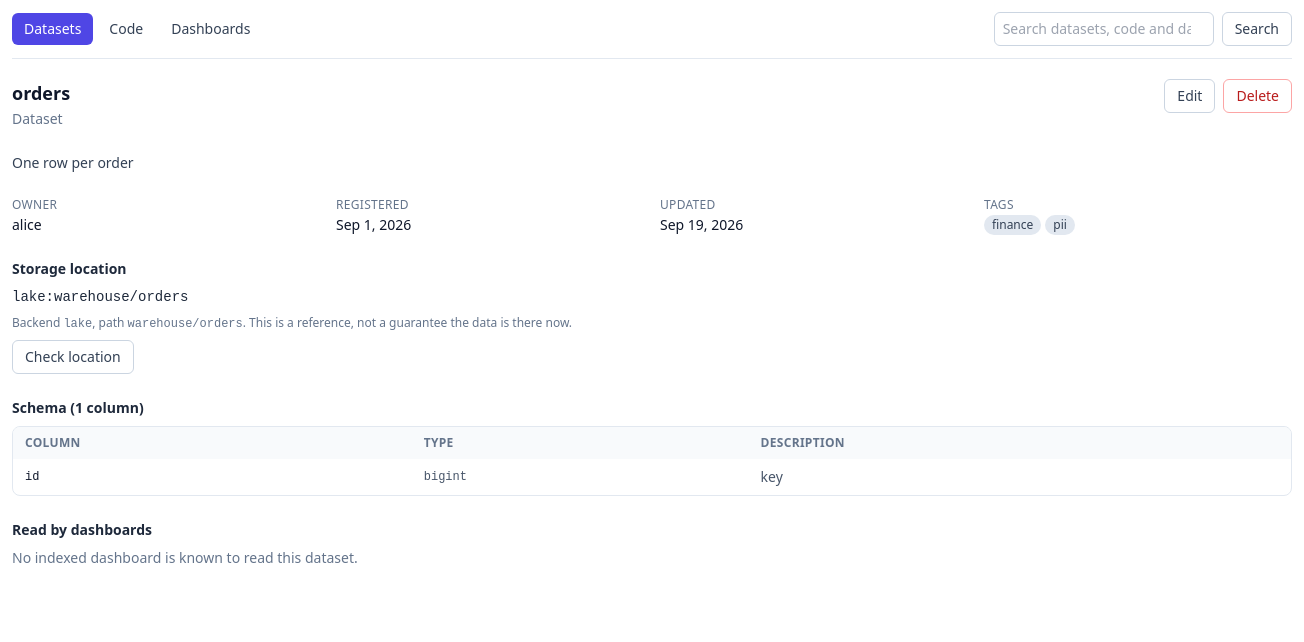
dataset detail › reports a failed delete and stays put
Expected: the heading "orders" is shown, [12,79,70,107]
Click the button "Delete" at (1258, 96), box [1223,79,1292,113]
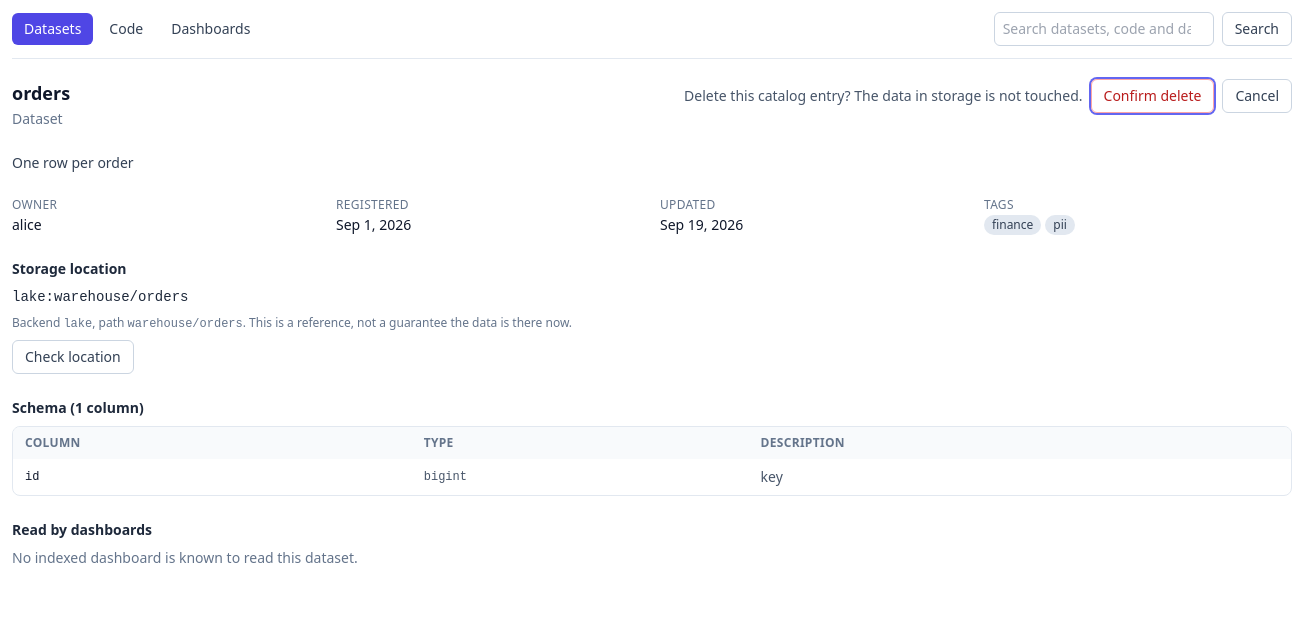
Click the button "Confirm delete" at (1152, 96), box [1090,79,1214,113]
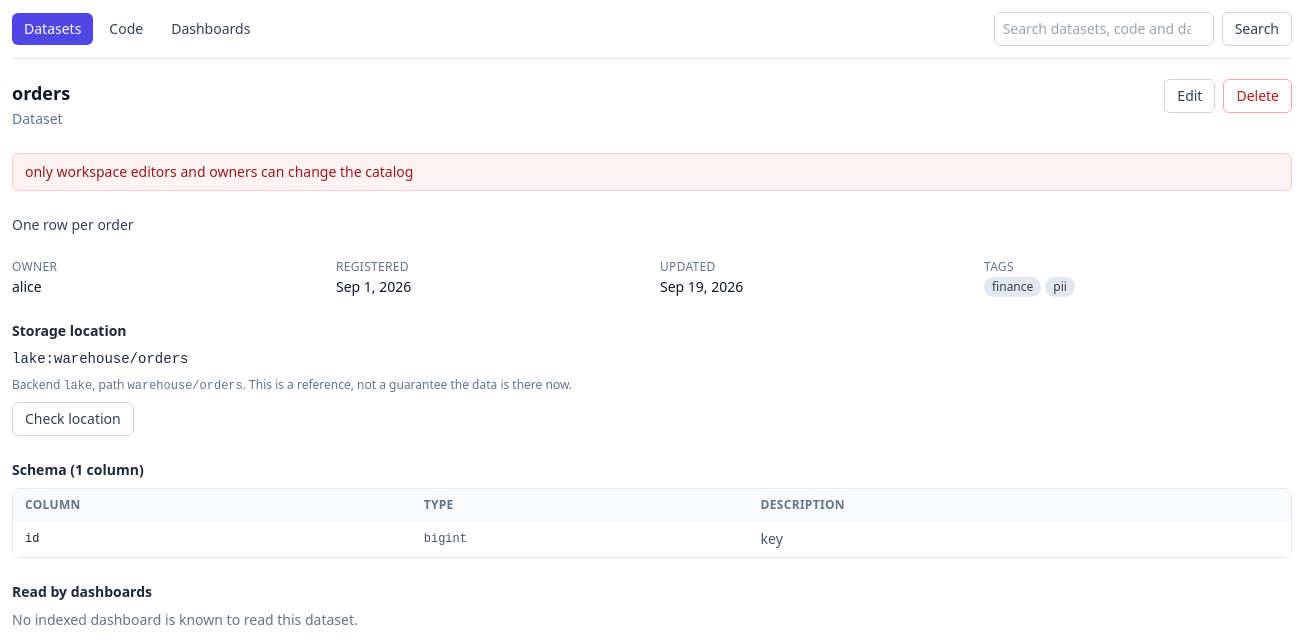
Expected: the text "only workspace editors and owners can change the catalog" is shown, [12,153,1292,191]
